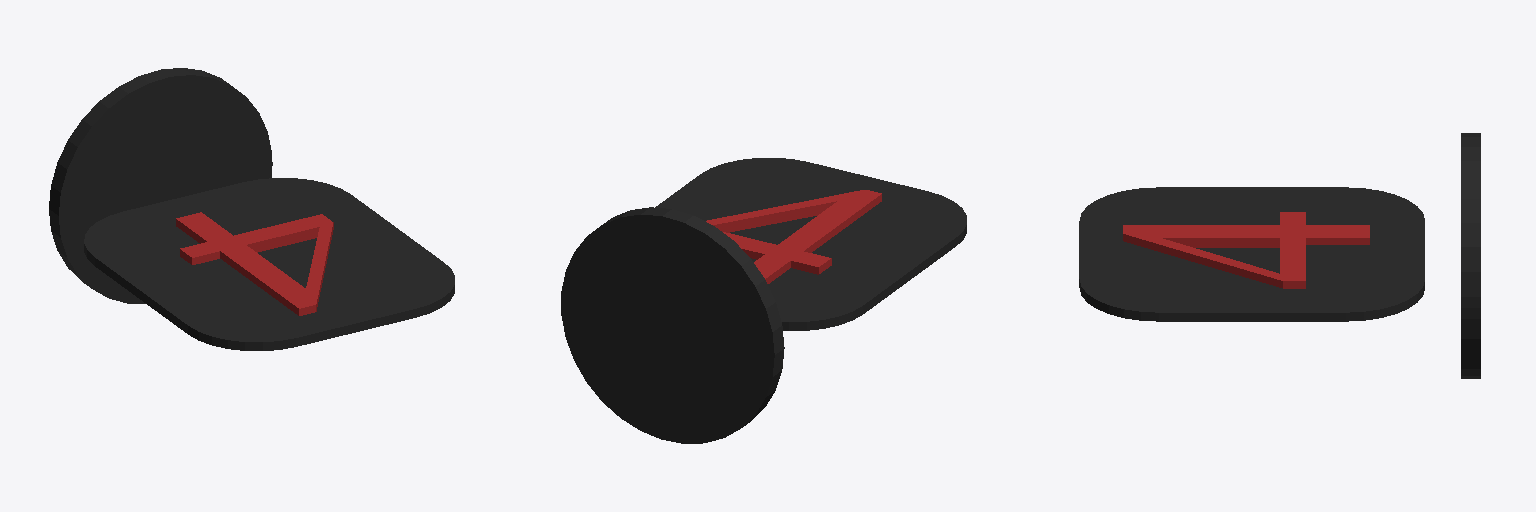
3 views of the same model, side by side, from view 1: azimuth 30°, elevation 25°; view 2: azimuth 150°, elevation 25°; view 3: azimuth 270°, elevation 25° (orthographic).
Parts seen in each view (by area): view 1: ART_GS[number redacted]_A; view 2: ART_GS[number redacted]_A; view 3: ART_GS[number redacted]_A.
Part boxes in pixels (left/top/right/bottom): ART_GS[number redacted]_A: left=49, top=68, right=454, bottom=350; ART_GS[number redacted]_A: left=561, top=158, right=966, bottom=443; ART_GS[number redacted]_A: left=1079, top=133, right=1480, bottom=378.
Size of the model in its own units: 0.45 by 0.3745 by 0.6088.